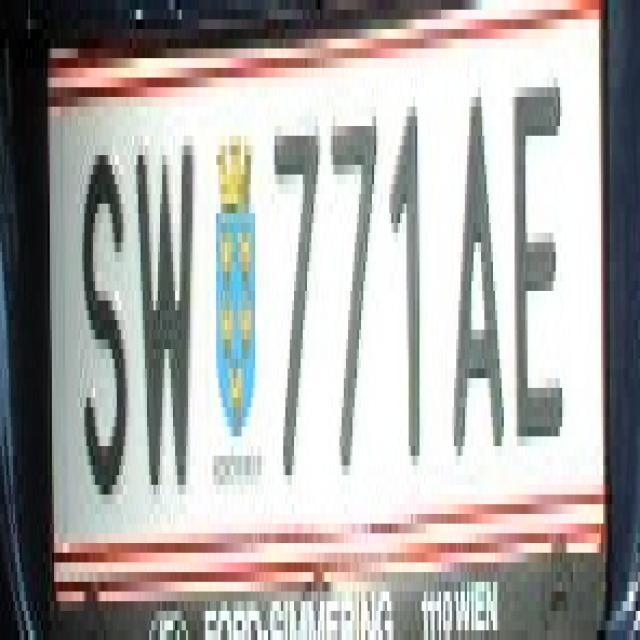1: (387, 107, 422, 466)
7: (326, 117, 378, 476), (270, 126, 322, 485)
A: (446, 78, 504, 446)
E: (510, 78, 564, 436)
S: (82, 165, 130, 485)
